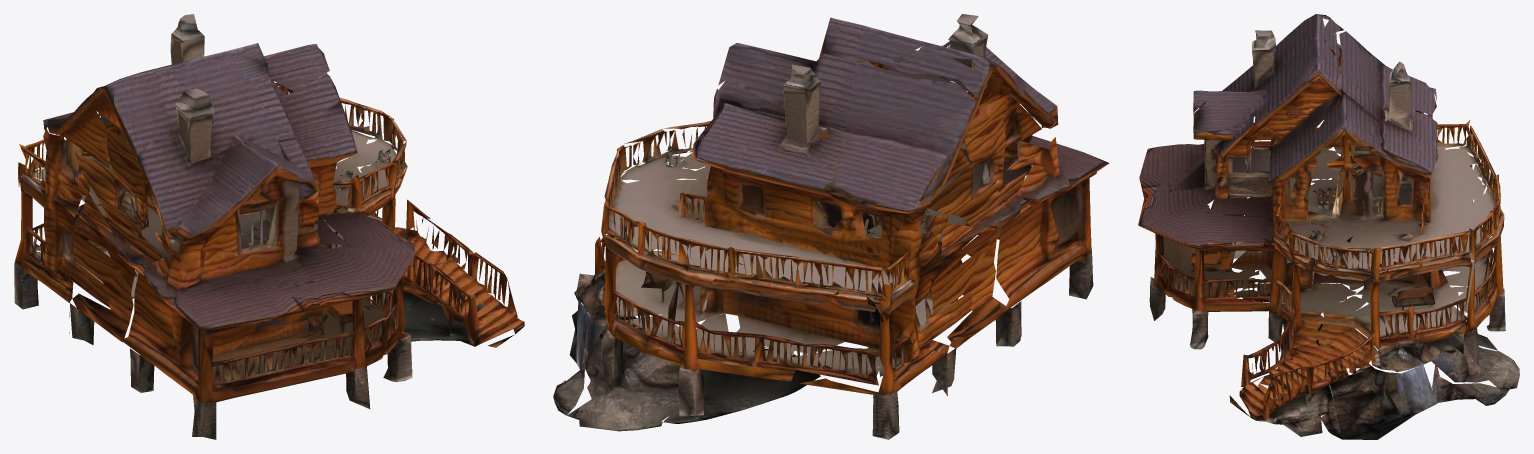
File: jungle_house_3d_model_free.glb
3 renders of one model, left to right at view 1: azimuth 30°, elevation 25°; view 2: azimuth 150°, elevation 25°; view 3: azimuth 270°, elevation 25°, orthographic. The views are drawn at different scales.
Parts seen in each view (by area): view 1: tripo_node_406b49fd-3309-48c4-9cbc-19fe36ea0146_0; view 2: tripo_node_406b49fd-3309-48c4-9cbc-19fe36ea0146_0; view 3: tripo_node_406b49fd-3309-48c4-9cbc-19fe36ea0146_0.
Part boxes in pixels (<box>): tripo_node_406b49fd-3309-48c4-9cbc-19fe36ea0146_0: <box>14,14,524,439</box>; tripo_node_406b49fd-3309-48c4-9cbc-19fe36ea0146_0: <box>553,14,1109,439</box>; tripo_node_406b49fd-3309-48c4-9cbc-19fe36ea0146_0: <box>1138,14,1519,439</box>.
Size of the model in its own units: 0.9976 by 0.8127 by 0.9865.
1 material, 1 textured.
